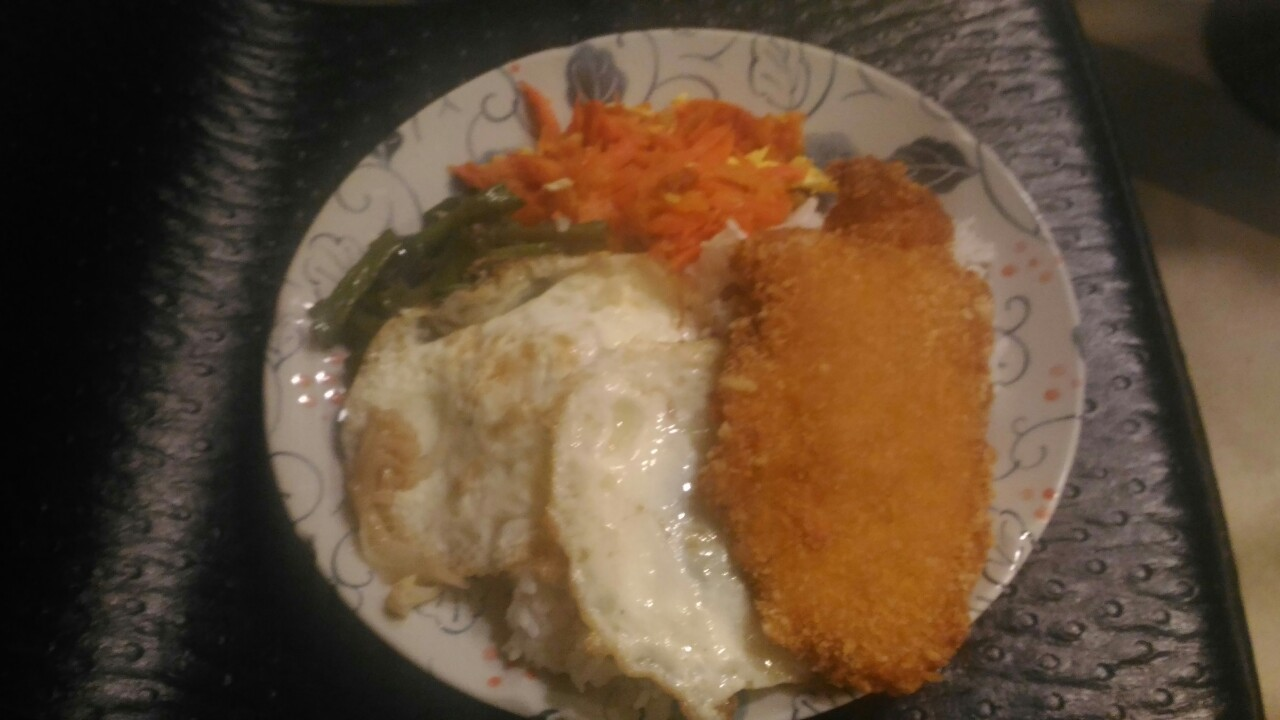carrot_eggs: (454, 93, 806, 251)
fried_chicken: (721, 184, 994, 689)
fried_eggs: (338, 253, 742, 694)
